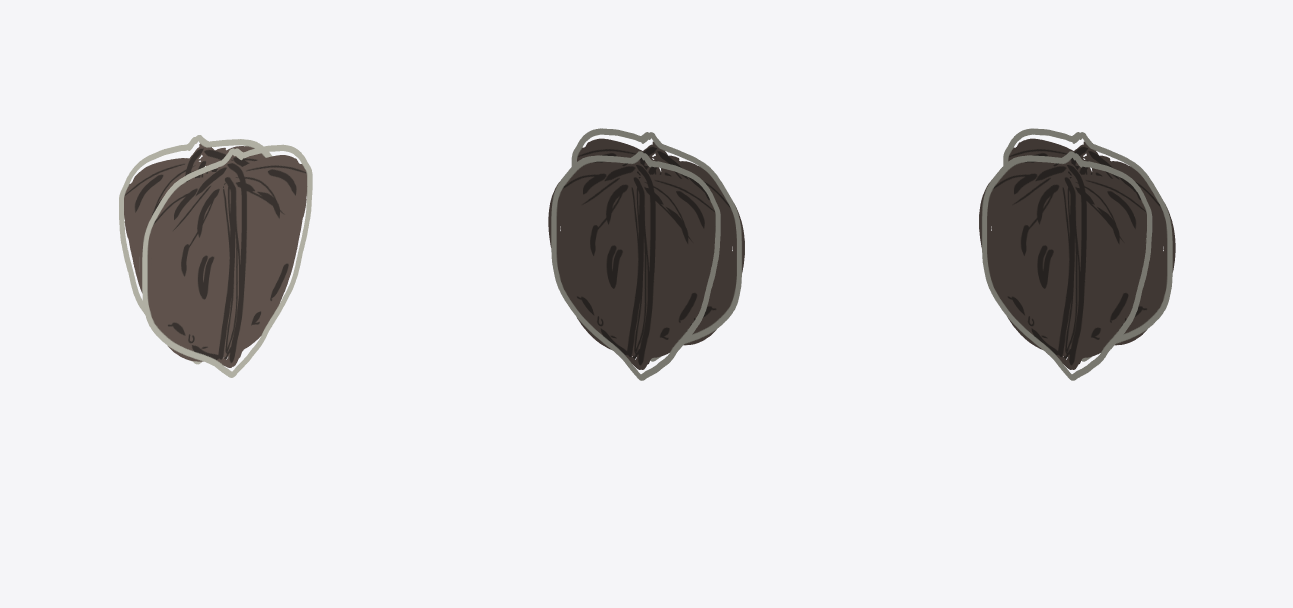
The model's file is prodpin-nuss.fbx.
3 renders of one model, left to right at view 1: azimuth 30°, elevation 25°; view 2: azimuth 150°, elevation 25°; view 3: azimuth 330°, elevation 25°, orthographic.
Visible parts, largest first — view 1: ProdPIn; view 2: ProdPIn; view 3: ProdPIn.
Boxes of the visible parts, x1,y1,x2,y2 form: ProdPIn: [119, 135, 312, 377]; ProdPIn: [548, 128, 744, 380]; ProdPIn: [979, 128, 1175, 380].
Bounding box in the file's own units: 200 × 268 × 20.35.
Materials: 1 (1 with a texture image).
